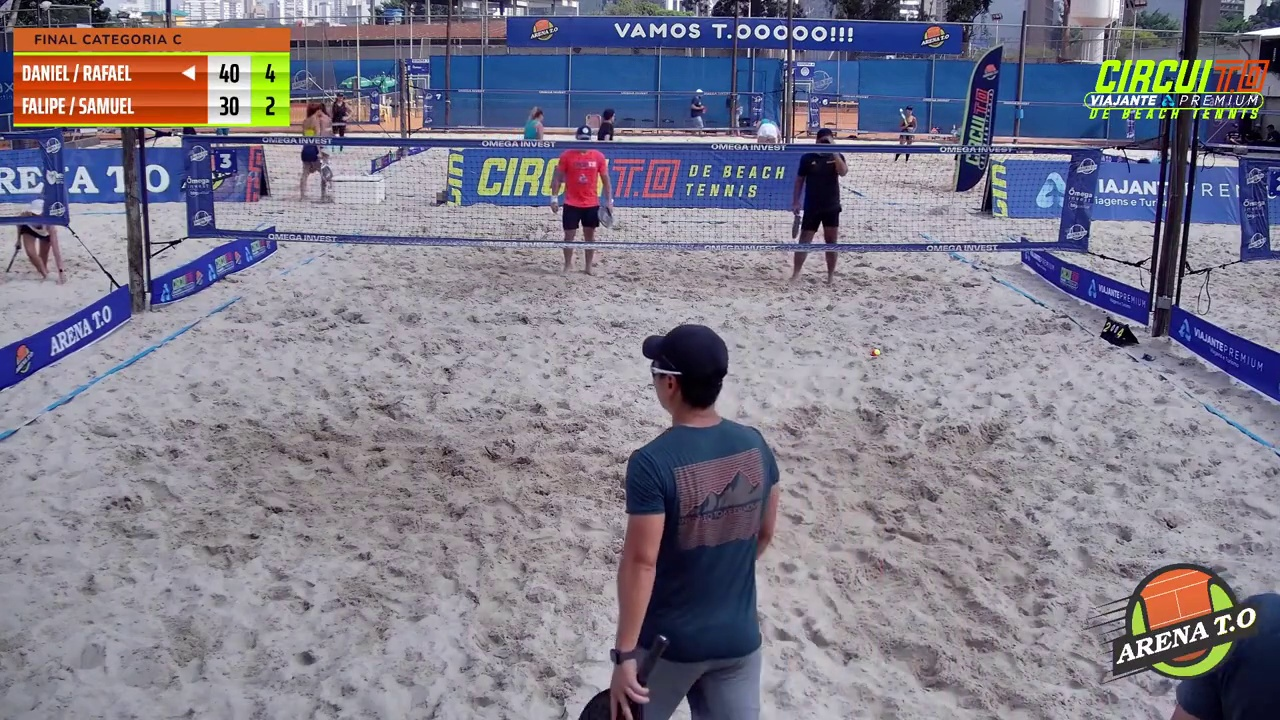court_line: (620, 0, 803, 350), (636, 0, 804, 252)
